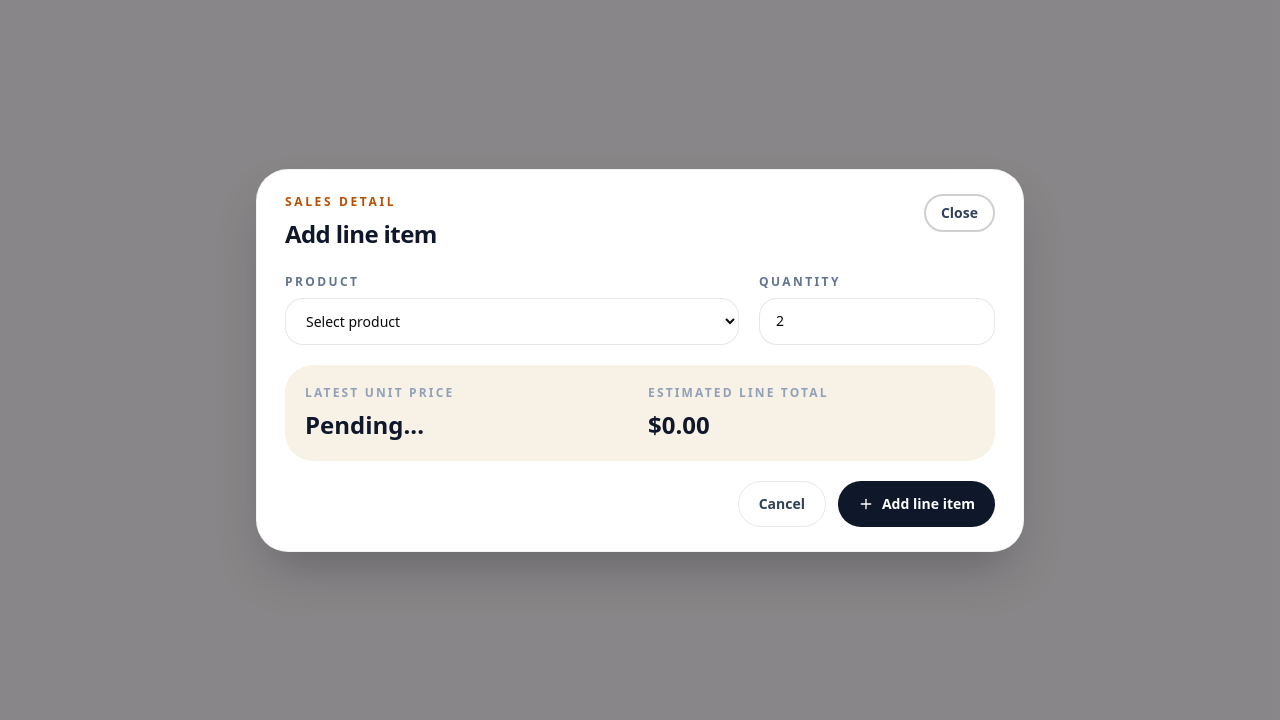
it: Sprint 2 lookup-only and price autofill coverage › auto-fills the latest unit price and recomputes the estimated row total in the line-item dialog
This screenshot has width=1280, height=720.
Step 1. Select "AM0002 - Logitech 910-002696" in the dropdown labelled "Product" → {"x": 512, "y": 321}, box [285, 298, 739, 344]
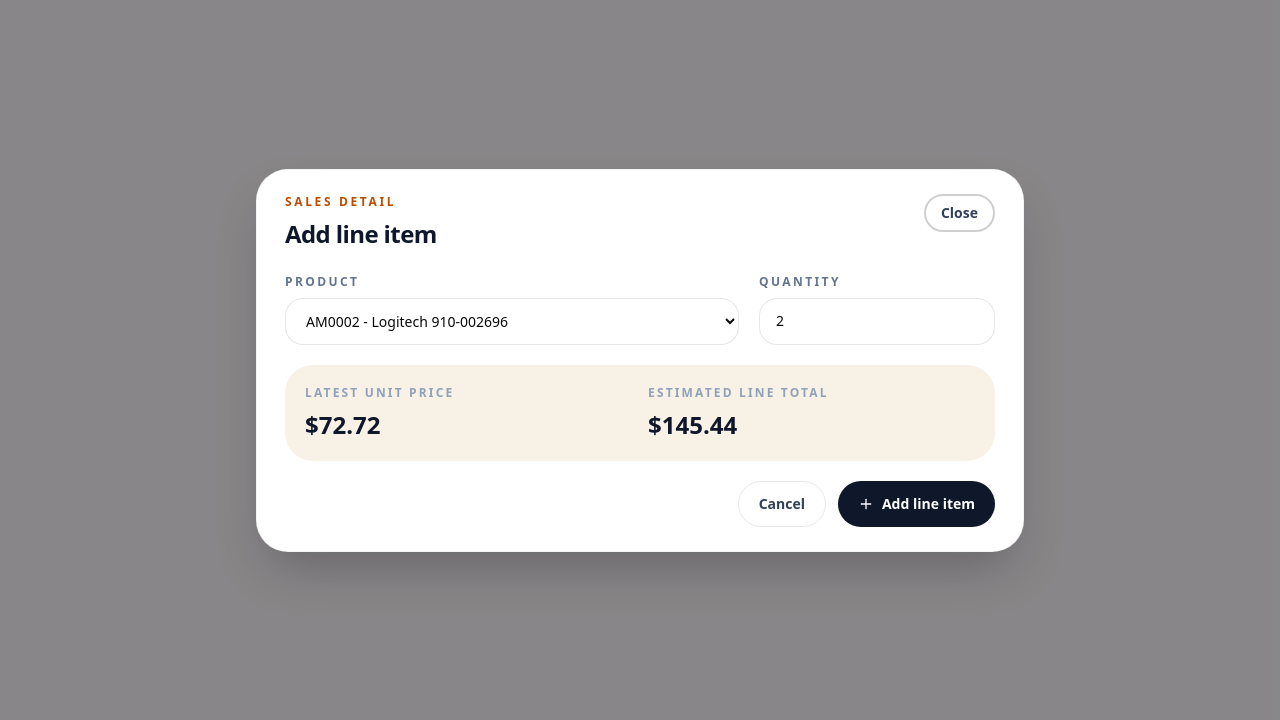
Now the text "$72.72" is shown, box [305, 408, 380, 440]
Now the text "$145.44" is shown, box [648, 408, 737, 440]
